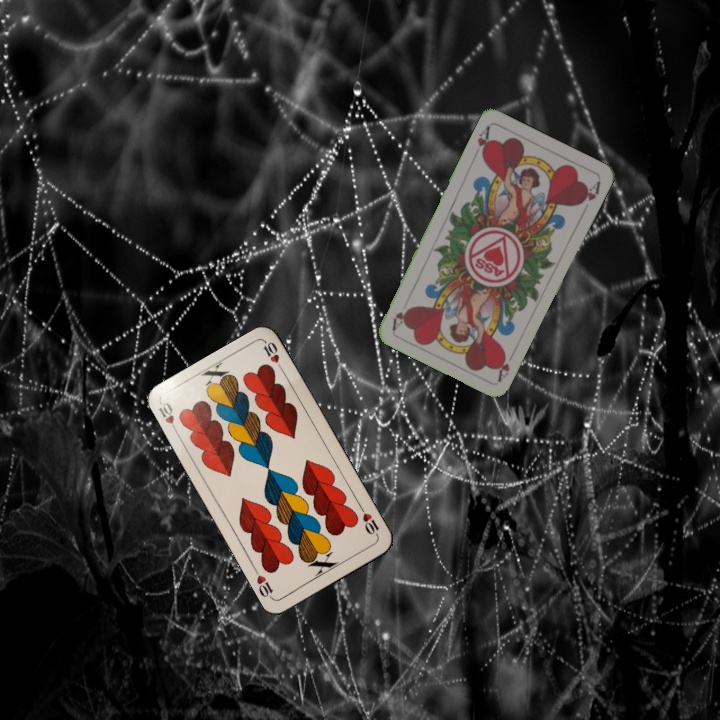H10: (154, 398, 181, 437), (356, 502, 382, 539)
HA: (494, 345, 518, 383), (473, 122, 494, 161)
